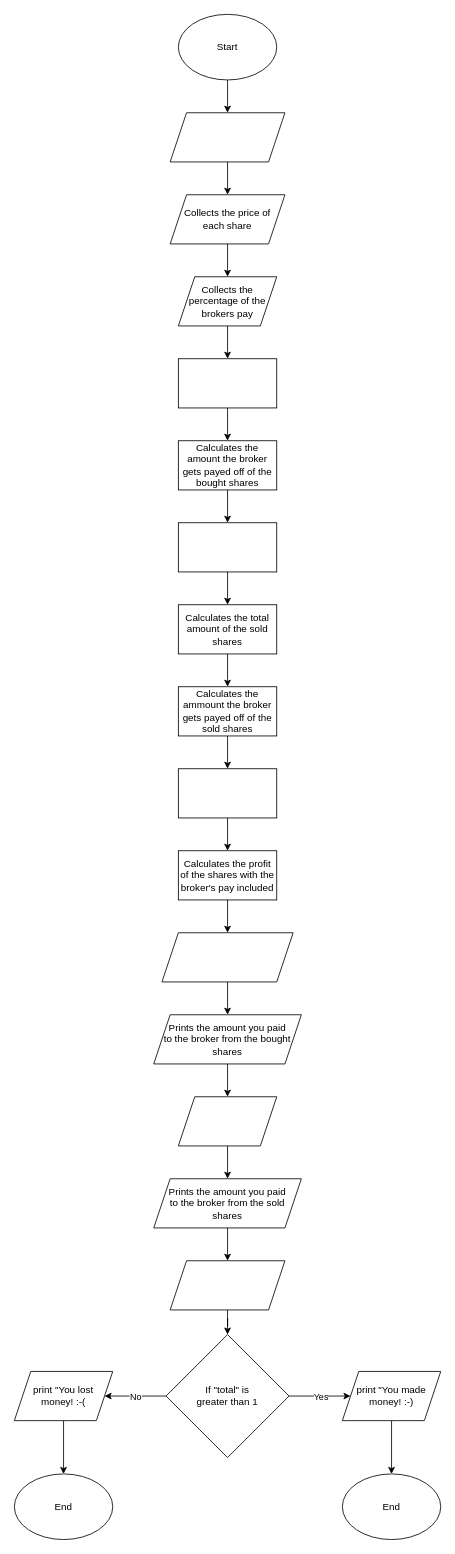
Image size: 455x1554. Some labels were removed from this diagram. The shapes that lost their labels are listed below. From the top down, each one's centre as x and y in pixels, then its label:
the point at 227,137: Collect the amount of shares
the point at 227,383: Calculates the total price of the bought shares
the point at 227,547: Calculates the increase of the price of each share
the point at 227,793: Calculates the profit from the shares
the point at 227,957: Prints the amount you paid for all the shares
the point at 227,1121: Prints what the stocks sold for
the point at 227,1285: Prints the profit before and after the brokers pay
